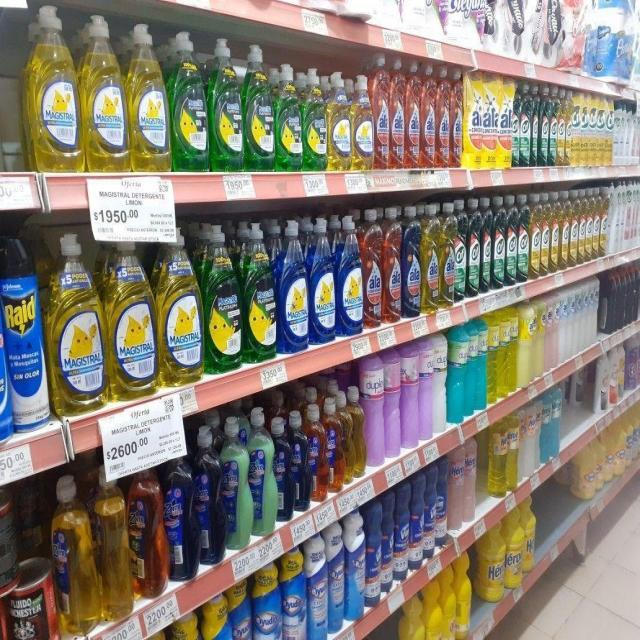ala_conc_amarillo: (422, 202, 439, 314), (440, 202, 454, 308)
ala_conc_azul: (402, 204, 421, 318)
ala_conc_rojo: (363, 208, 382, 329), (383, 206, 401, 324), (374, 54, 389, 170), (420, 62, 436, 169), (405, 60, 420, 169), (390, 57, 404, 169), (436, 64, 450, 168), (450, 67, 463, 169)
ala_crem_amarillo: (518, 301, 531, 387)
ala_crem_rosado: (545, 294, 555, 372)
ala_sachet_amarillo: (464, 68, 482, 168), (482, 70, 497, 169), (499, 74, 511, 169)
cif_conc_bot_amarilla: (530, 192, 541, 280), (541, 191, 550, 276), (560, 190, 569, 270), (551, 190, 559, 273), (570, 189, 578, 267), (557, 89, 565, 166), (564, 90, 572, 166), (578, 189, 585, 265), (593, 188, 600, 260), (600, 187, 607, 257), (586, 188, 592, 263)
cif_conc_botella_verde: (492, 196, 506, 289), (455, 200, 467, 302), (468, 198, 480, 296), (518, 192, 530, 282), (481, 197, 492, 293), (506, 193, 517, 287), (520, 83, 530, 168), (539, 85, 548, 167), (512, 80, 520, 168), (530, 84, 538, 167), (549, 87, 557, 167)
heroe: (449, 443, 464, 532), (464, 438, 477, 524), (506, 411, 518, 492), (524, 401, 536, 479), (519, 405, 526, 484)
magistral_con_amarillo: (49, 232, 106, 415), (29, 3, 80, 172), (108, 238, 157, 400), (82, 12, 126, 173), (159, 229, 203, 386), (129, 21, 169, 172), (327, 70, 351, 172), (352, 73, 373, 171)
magistral_con_azul: (278, 218, 308, 352), (310, 216, 335, 344), (337, 214, 362, 337)
